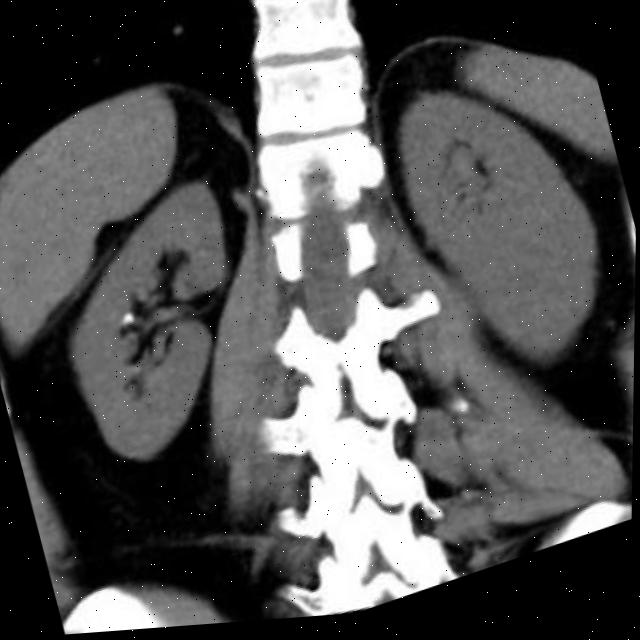Tas_Var: (116, 308, 138, 329), (129, 362, 143, 376)
